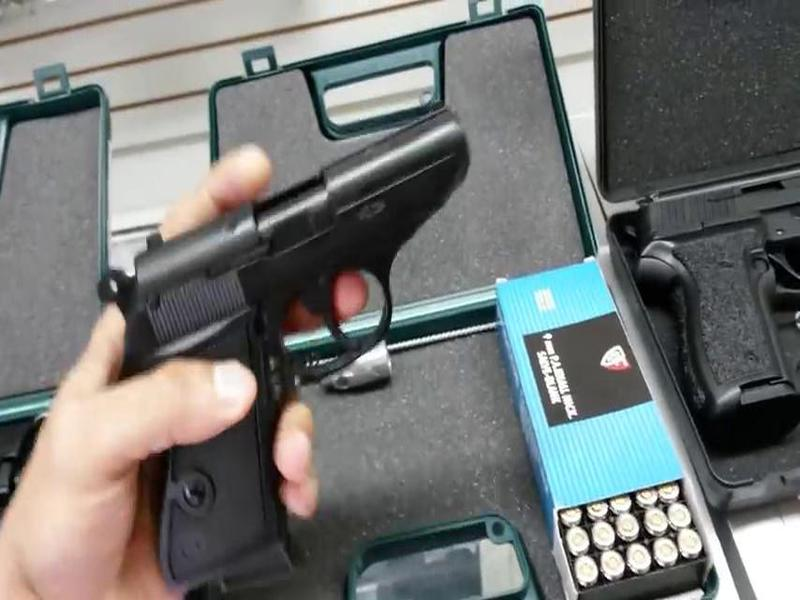Pistola: (102, 95, 487, 578)
